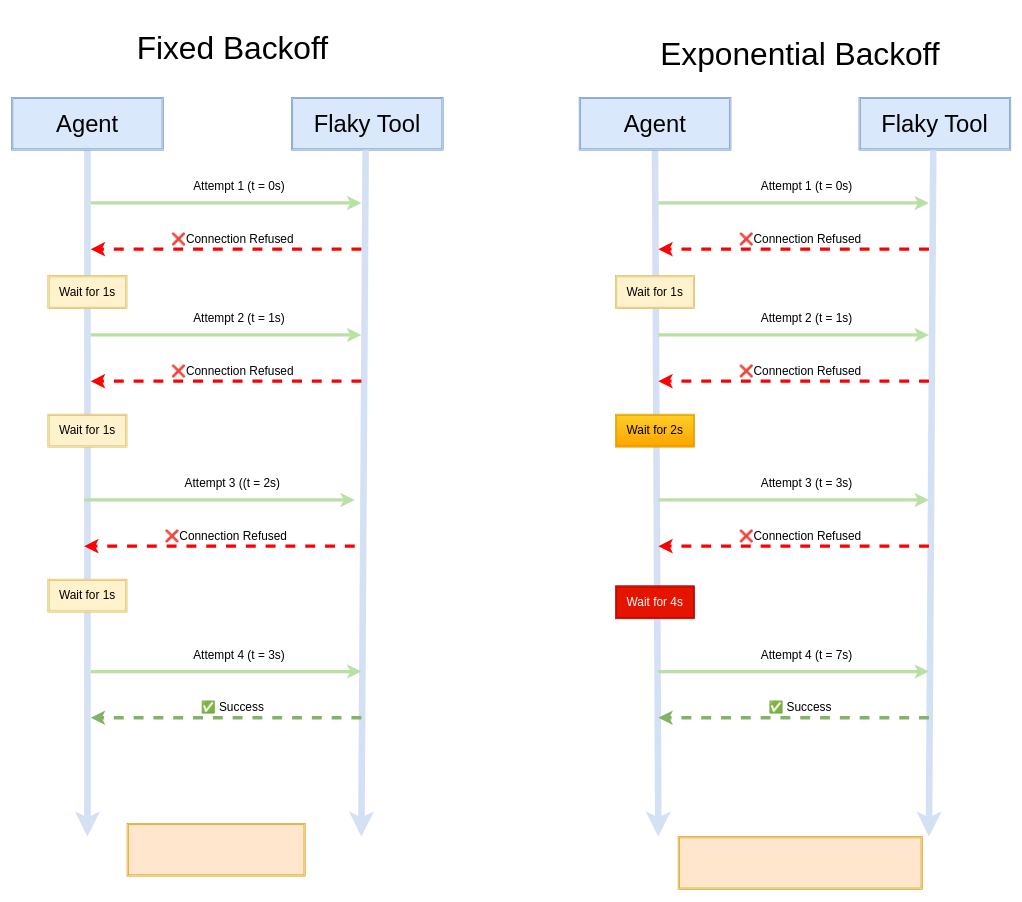
This 1022x902 diagram has some shape labels left out. The centre of each missing label's shape, as x and y in pixels:
exponentially growing Intervals: point 799,862
Fixed Intervals: point 215,849
